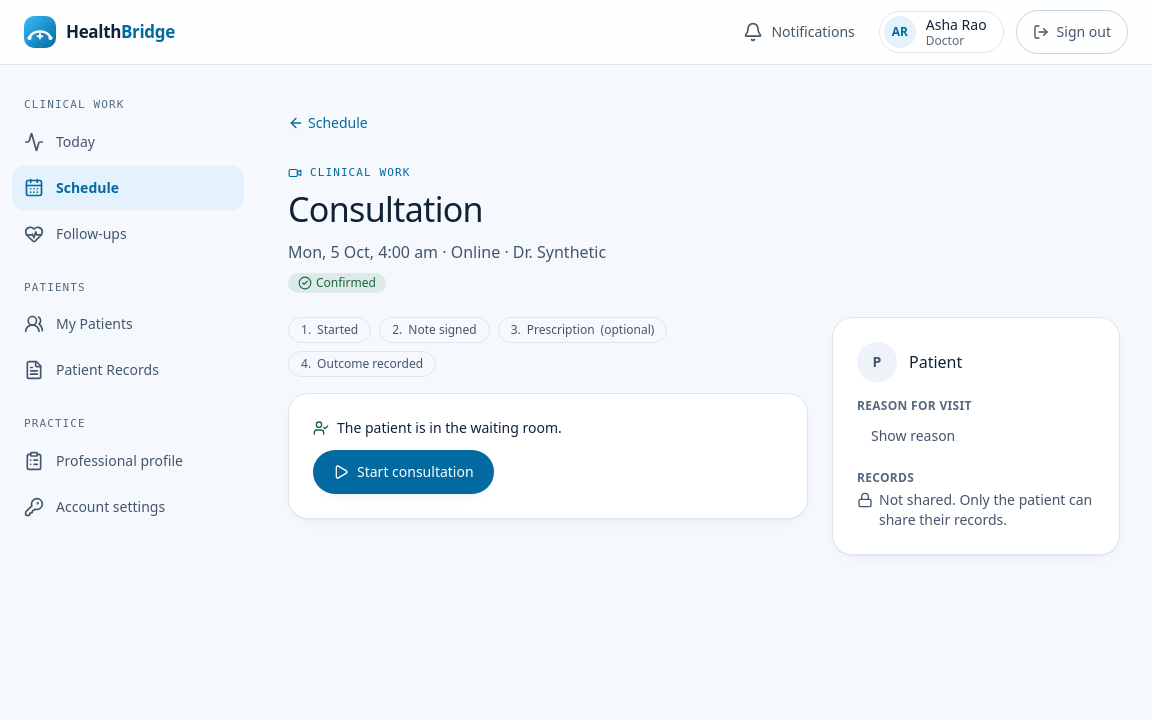
Test: consultation room › doctor sees the waiting patient and starts the consultation
Expected: the text "The patient is in the waiting room." is shown, [313,418,562,437]
What coordinates should you click on to do the following:
click the button "Start consultation"
I would click on:
 (403, 472)
Its box is [313,450,494,494].
(page scrolled)
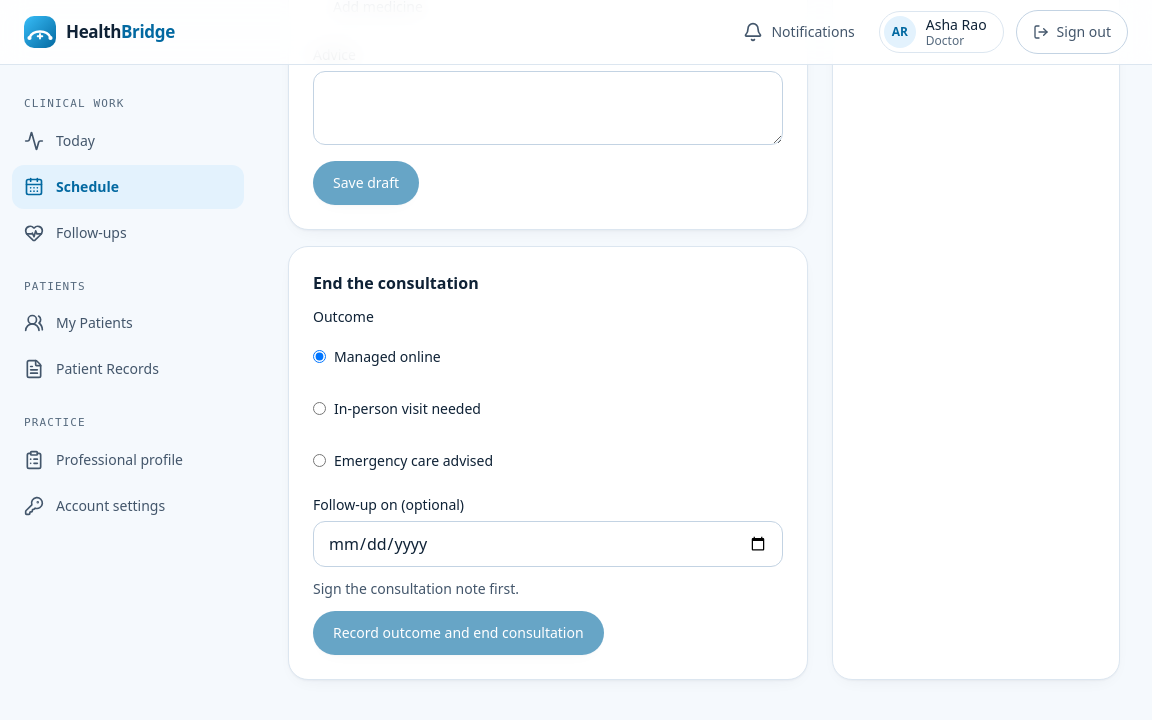
Outcome C needs explicit confirmation.
What coordinates should you click on to do the following:
click the radio button labelled "Emergency care advised"
I would click on:
 (320, 461)
Its box is [313,454,326,467].
(page scrolled)
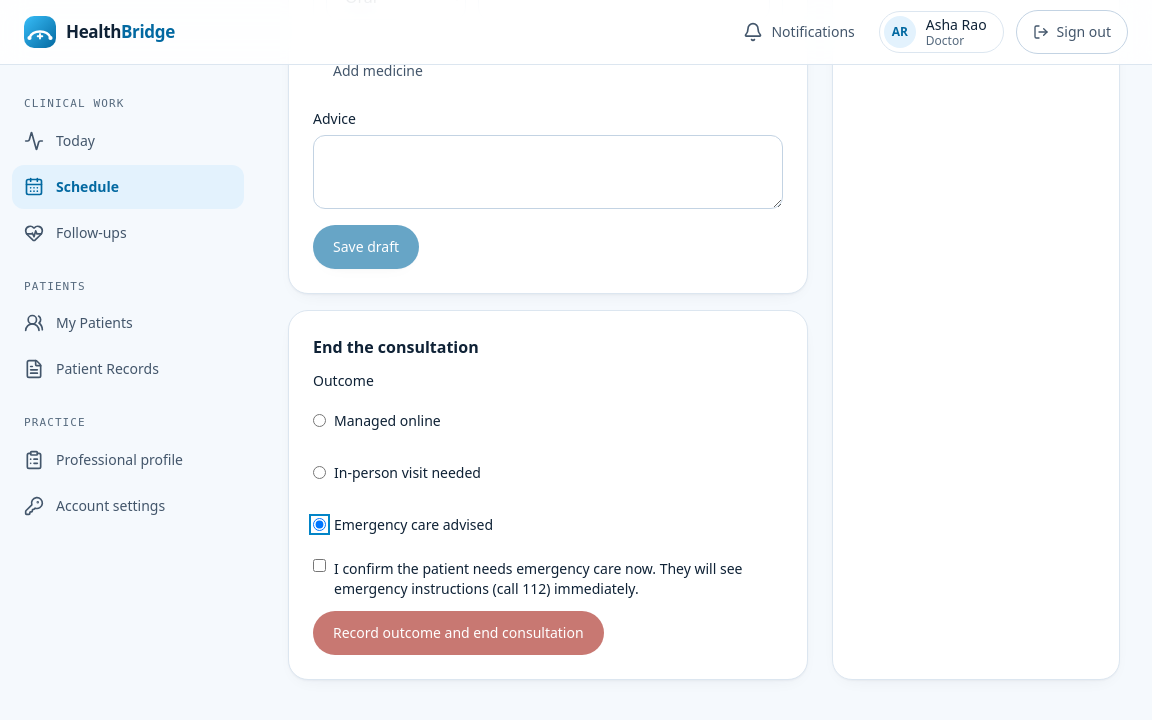
Expected: the button "Record outcome and end consultation" is disabled, [313,611,604,655]
What coordinates should you click on to do the following:
click the checkbox
I would click on:
 (320, 565)
Its box is [313,559,326,572].
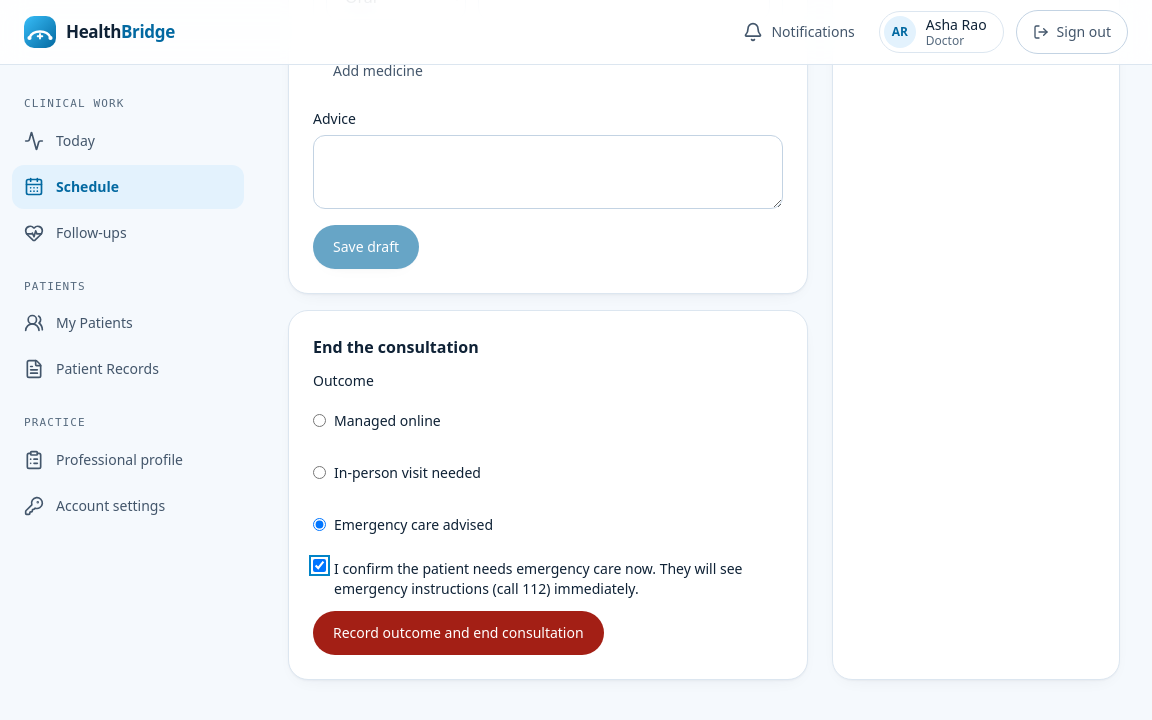
Expected: the button "Record outcome and end consultation" is enabled, [313,611,604,655]
